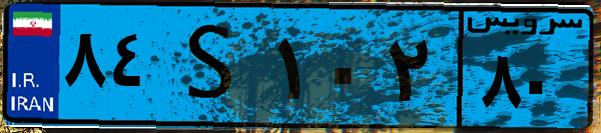0: (330, 28, 385, 110), (525, 38, 570, 115)
1: (270, 28, 330, 110)
2: (385, 28, 445, 110)
4: (110, 28, 158, 98)
8: (57, 26, 110, 100), (475, 38, 525, 113)
S: (158, 12, 270, 120)
